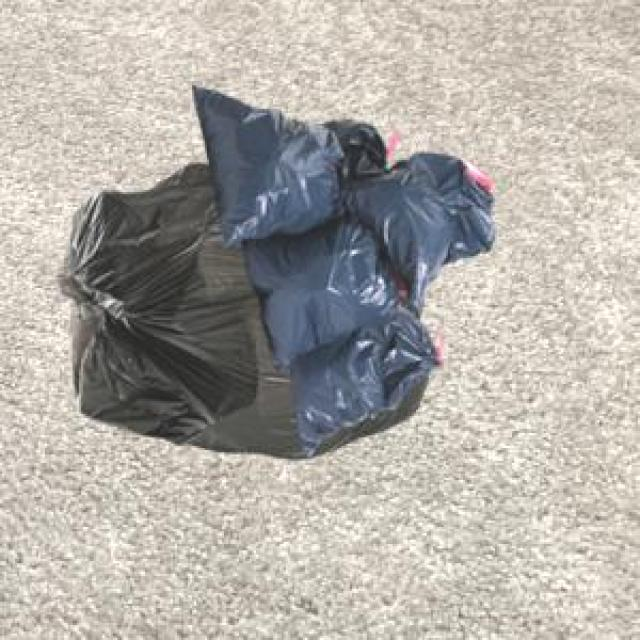Trashbag: (190, 73, 345, 238), (359, 148, 498, 289), (285, 325, 427, 463), (249, 220, 386, 354)
